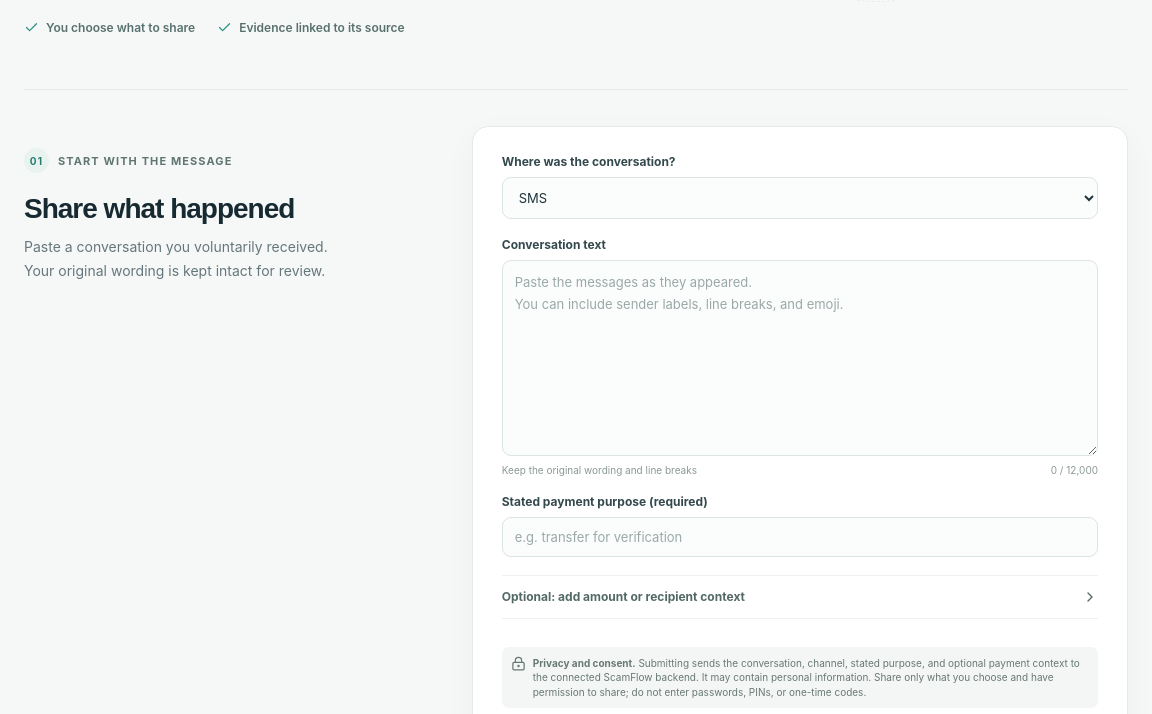
prevents a duplicate create mutation while the first is pending
The width and height of the screenshot is (1152, 714).
(page scrolled)
In the text box labelled "Conversation text": (800, 358) [502,260,1098,456], type "A message that needs context."
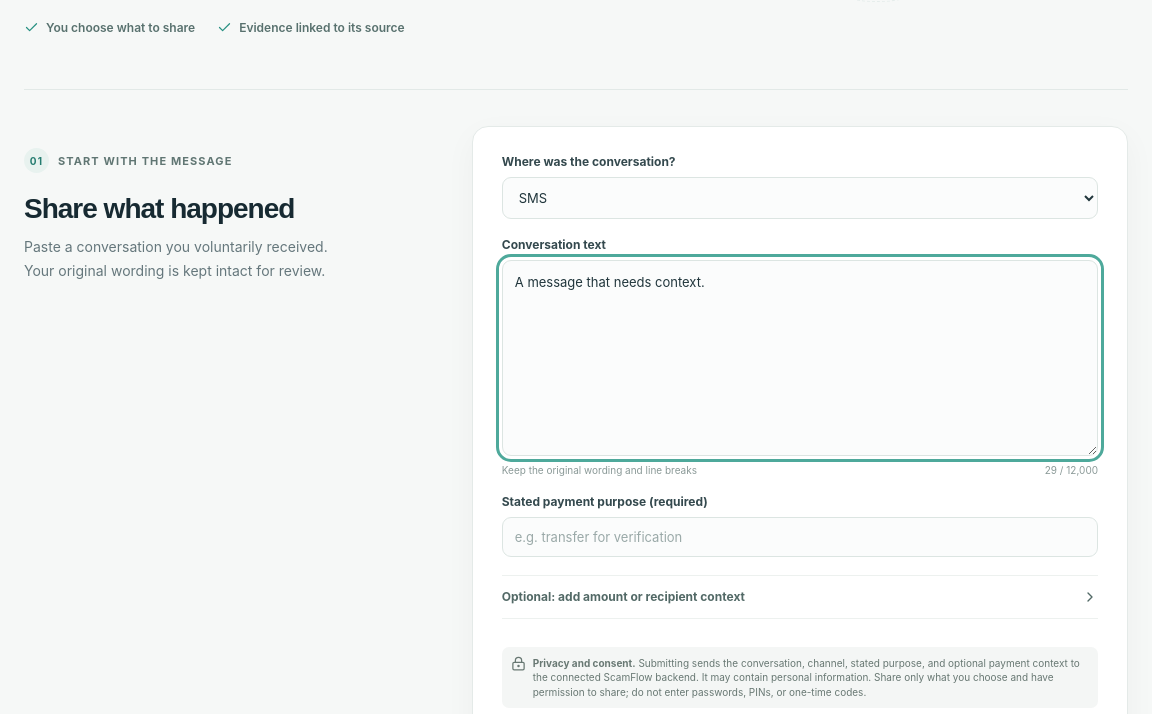
Click the heading "Optional: add amount or recipient context": (623, 597) [502,589,1098,605]
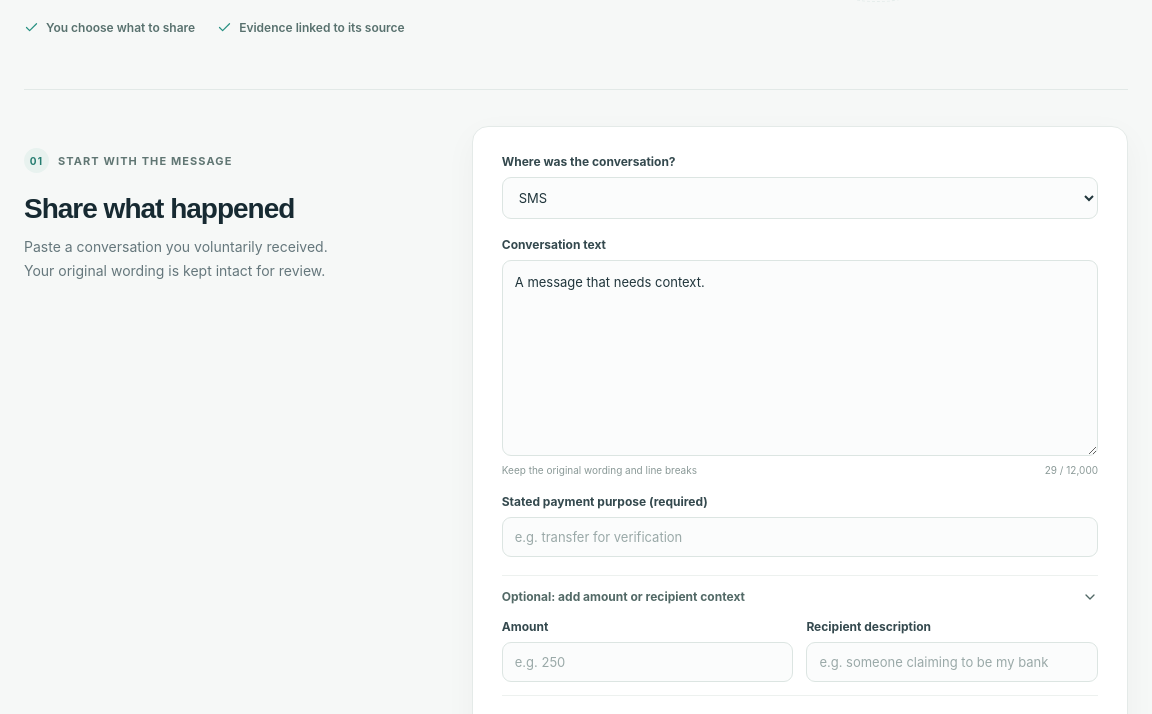
In the field labelled "Stated payment purpose (required)": (800, 537) [502,517,1098,557], type "Account verification"
(page scrolled)
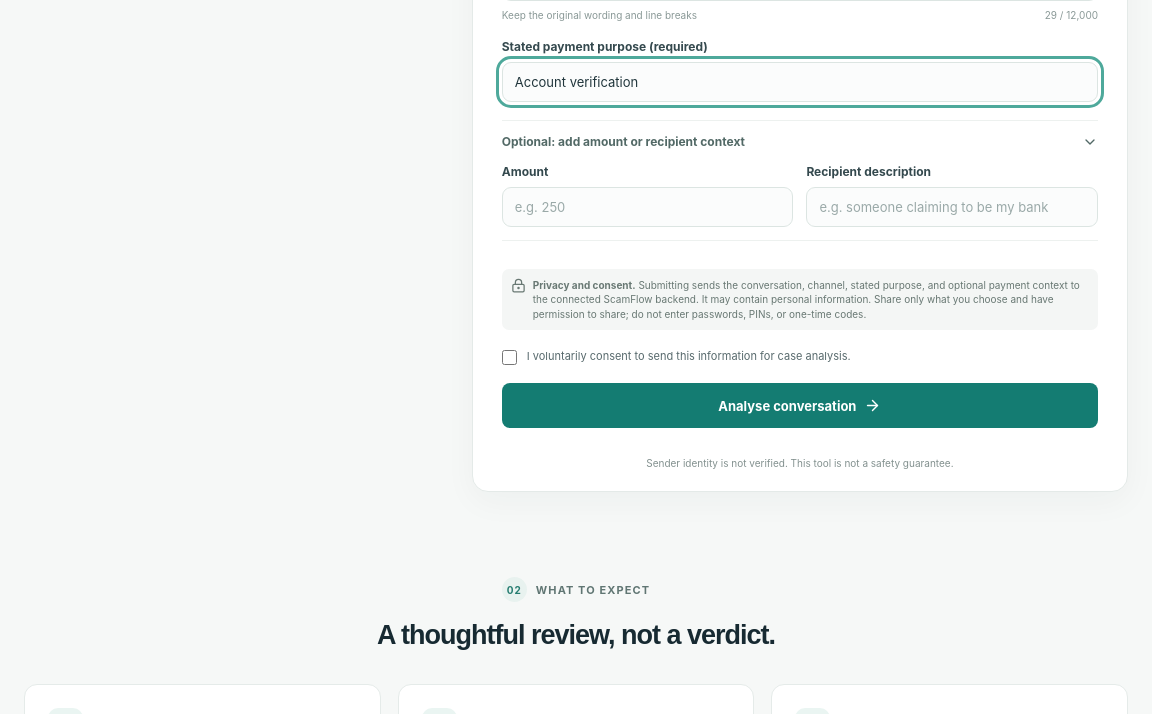
Click the checkbox: (509, 358) [502,350,517,365]
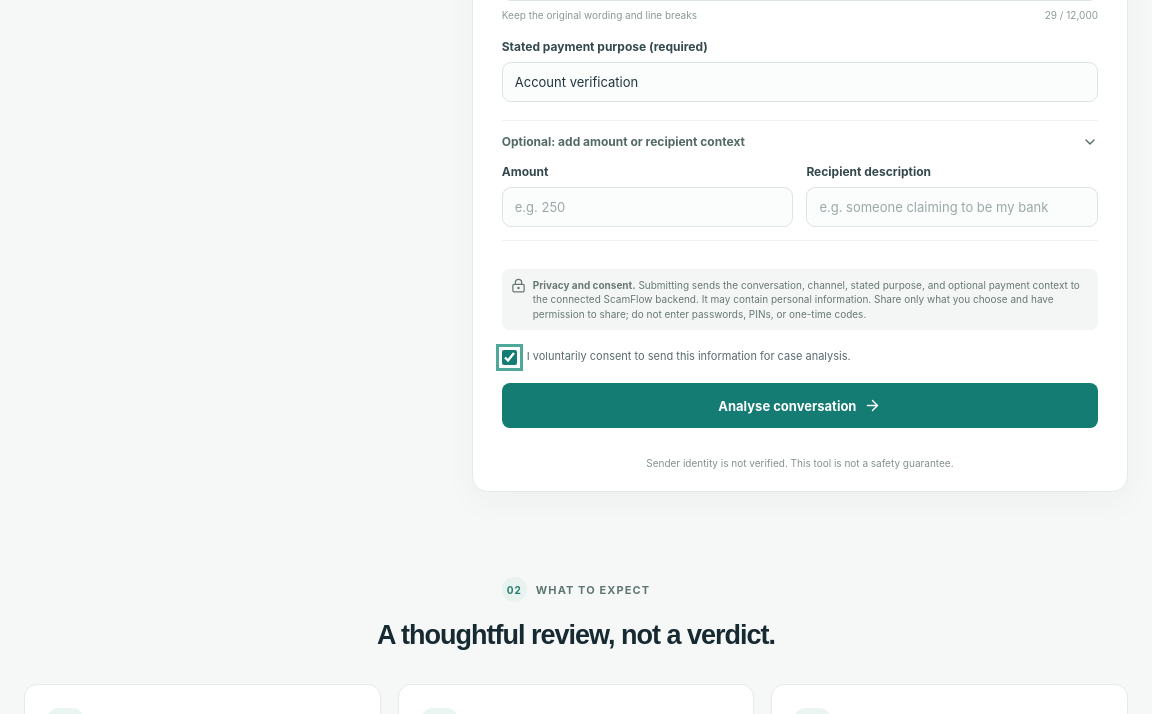
Click the button "Analyse conversation": (800, 406) [502,383,1098,428]
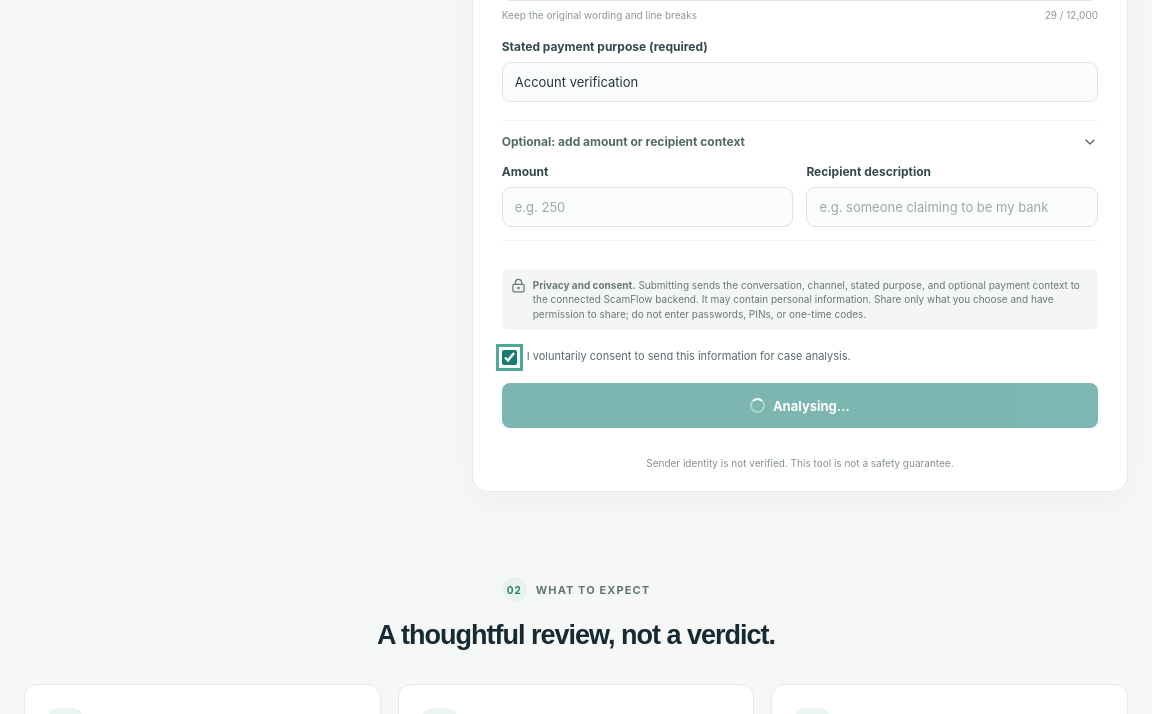
Click the button named "analyse conversation": (800, 406) [502,383,1098,428]
(page scrolled)
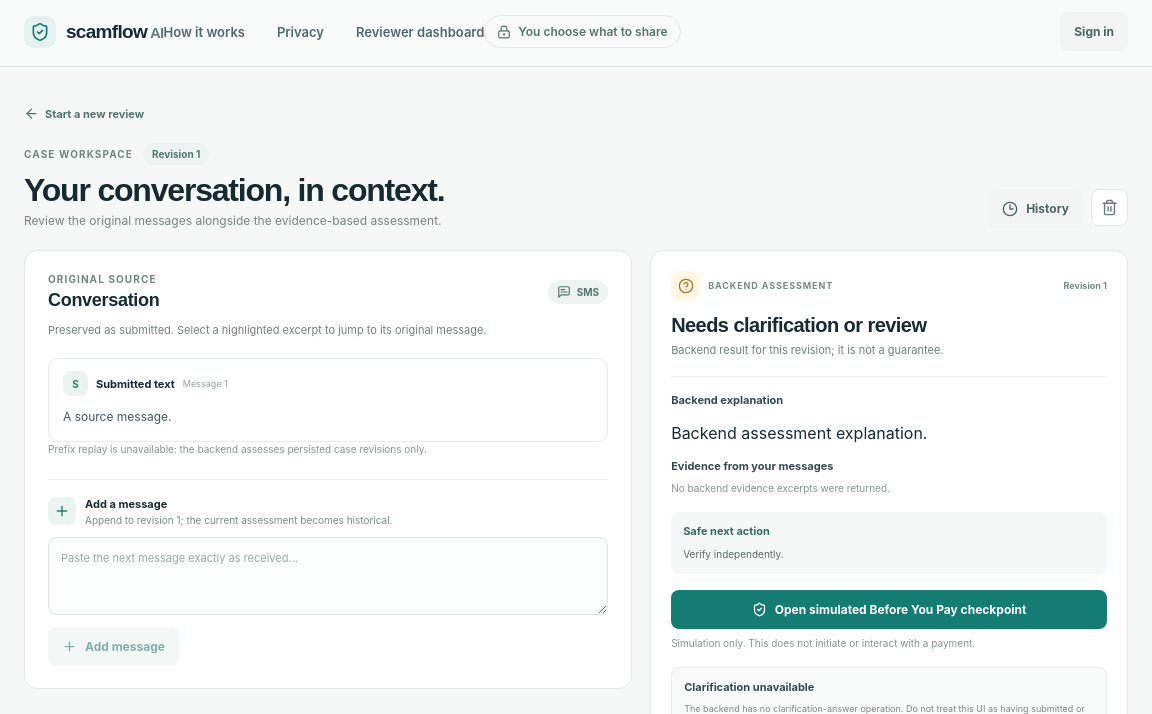
Expected: the heading "Your conversation, in context." is shown, [24,173,444,208]
